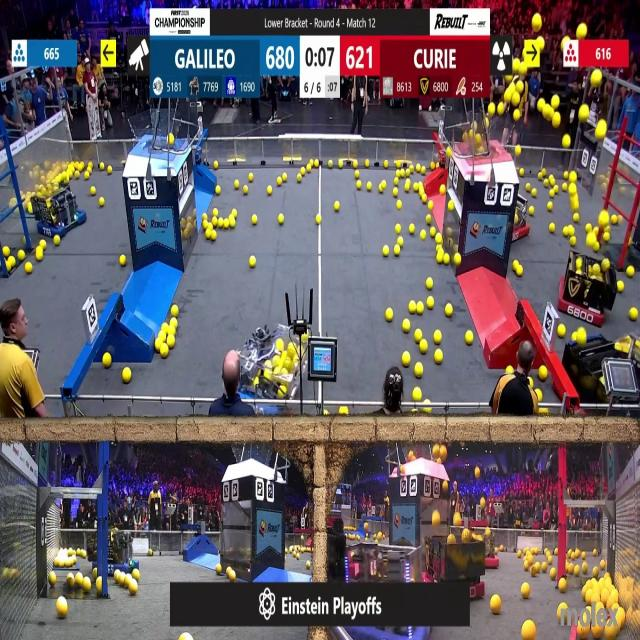ball_airborne: (596, 122, 607, 141), (592, 70, 602, 86), (576, 25, 586, 41), (581, 105, 590, 121), (532, 16, 541, 32), (553, 111, 561, 127), (552, 96, 560, 110), (504, 90, 512, 104), (432, 512, 439, 528), (542, 106, 551, 118), (563, 135, 571, 148), (454, 514, 462, 527), (514, 60, 521, 74), (537, 99, 544, 112), (488, 104, 496, 115), (441, 447, 448, 459), (517, 80, 524, 92), (569, 172, 576, 183), (498, 103, 504, 115), (514, 94, 520, 106), (432, 446, 438, 458), (537, 38, 544, 48), (516, 145, 522, 156), (521, 63, 527, 74), (515, 110, 521, 120), (474, 134, 480, 144), (505, 74, 512, 82), (474, 467, 479, 478), (410, 452, 416, 461), (169, 136, 174, 146), (444, 482, 449, 492), (467, 132, 473, 139), (481, 498, 486, 506)
ball_ground: (58, 598, 69, 618), (523, 622, 535, 640), (491, 596, 500, 615), (599, 212, 609, 226), (82, 579, 91, 594), (116, 571, 126, 584), (522, 584, 530, 600), (577, 331, 586, 345), (103, 353, 111, 367), (122, 367, 130, 381), (130, 582, 138, 596), (401, 352, 409, 366), (434, 350, 442, 364), (415, 362, 423, 376), (96, 580, 104, 594), (602, 260, 610, 274), (413, 388, 422, 400), (386, 309, 394, 322), (465, 333, 473, 346), (433, 332, 441, 345), (539, 366, 546, 380), (630, 308, 638, 320), (426, 296, 434, 308), (420, 342, 428, 354), (417, 303, 425, 315), (162, 346, 170, 358), (229, 569, 237, 581), (558, 324, 565, 337), (402, 319, 409, 332), (446, 305, 453, 318), (559, 580, 566, 593), (571, 198, 578, 211), (7, 256, 14, 269), (587, 236, 595, 247), (426, 278, 433, 290), (172, 306, 179, 318), (410, 302, 417, 314), (415, 329, 422, 341), (168, 338, 175, 350), (154, 340, 161, 352), (36, 249, 43, 261), (49, 572, 56, 584), (530, 565, 538, 575), (454, 253, 461, 264), (119, 254, 125, 266), (628, 267, 634, 279), (619, 281, 625, 293), (505, 365, 513, 374), (204, 231, 212, 240), (603, 233, 610, 243), (3, 247, 10, 257), (17, 250, 24, 260), (435, 253, 442, 263), (133, 569, 140, 579), (396, 237, 403, 247), (230, 218, 237, 228), (250, 256, 256, 267), (27, 264, 33, 275), (444, 253, 450, 264), (536, 390, 542, 401), (551, 568, 557, 579), (168, 326, 176, 334), (171, 318, 178, 327), (616, 215, 623, 224), (394, 246, 400, 256), (395, 223, 401, 233), (570, 237, 576, 247), (383, 246, 389, 256), (316, 214, 322, 224), (546, 202, 552, 212), (410, 223, 416, 233), (278, 214, 284, 224), (55, 237, 61, 247), (517, 268, 523, 278), (441, 184, 447, 194), (335, 202, 341, 212), (211, 232, 217, 242), (435, 235, 441, 245), (396, 200, 402, 210), (563, 226, 569, 236), (223, 218, 229, 228), (594, 242, 600, 252), (610, 214, 616, 224), (572, 333, 578, 343), (76, 572, 82, 582), (573, 565, 579, 575), (28, 204, 34, 214), (593, 567, 599, 577), (560, 602, 567, 610), (538, 409, 546, 416), (268, 185, 274, 194), (243, 184, 249, 193), (379, 183, 385, 192), (550, 223, 556, 232), (392, 187, 398, 196), (212, 217, 218, 226), (403, 182, 409, 191), (413, 182, 419, 191), (74, 171, 80, 180), (563, 182, 569, 191), (203, 219, 209, 228), (78, 163, 84, 172), (100, 198, 105, 208), (216, 564, 221, 574), (218, 218, 223, 228), (557, 607, 562, 617), (420, 232, 426, 240), (587, 223, 593, 231), (235, 180, 241, 188), (572, 214, 578, 222), (100, 164, 106, 172), (282, 174, 288, 182), (524, 562, 530, 570), (212, 209, 218, 217), (525, 183, 531, 191), (547, 189, 553, 197), (93, 568, 99, 576), (307, 166, 313, 174), (314, 161, 320, 169), (163, 323, 169, 331), (341, 409, 347, 417), (430, 164, 436, 172), (541, 560, 547, 568), (203, 213, 209, 221), (252, 215, 257, 224), (356, 180, 361, 189), (233, 209, 238, 218), (355, 171, 360, 180), (449, 203, 454, 212), (40, 241, 45, 250), (542, 178, 547, 187), (363, 162, 369, 169), (430, 227, 436, 234), (92, 186, 97, 194), (366, 182, 371, 190), (532, 188, 537, 196), (529, 207, 534, 215), (296, 175, 301, 183), (278, 179, 282, 189), (148, 551, 153, 559), (417, 166, 422, 174), (554, 185, 559, 193), (327, 162, 332, 170), (600, 561, 605, 569), (551, 179, 556, 187), (353, 162, 358, 170), (529, 378, 534, 386), (216, 185, 220, 194), (423, 398, 429, 404), (307, 562, 312, 569), (323, 411, 328, 418), (299, 169, 304, 176), (537, 173, 542, 180), (499, 544, 504, 551), (108, 167, 112, 175), (428, 202, 432, 210), (249, 174, 253, 182), (426, 215, 430, 223), (520, 169, 524, 177), (394, 178, 398, 186), (84, 172, 88, 180), (214, 160, 218, 168), (422, 196, 426, 204), (384, 162, 388, 170), (396, 170, 400, 178), (516, 552, 520, 560), (422, 410, 430, 414), (340, 163, 344, 170), (594, 550, 598, 557), (90, 163, 94, 170), (555, 547, 559, 554), (295, 554, 299, 560)
goal: (459, 118, 514, 159), (129, 115, 188, 152)
robot_blue: (239, 324, 303, 416), (34, 184, 86, 238), (605, 333, 640, 403), (106, 528, 137, 572)
robot_red: (418, 531, 484, 603), (561, 258, 618, 326), (561, 329, 611, 396), (482, 528, 499, 569), (510, 209, 531, 240)
